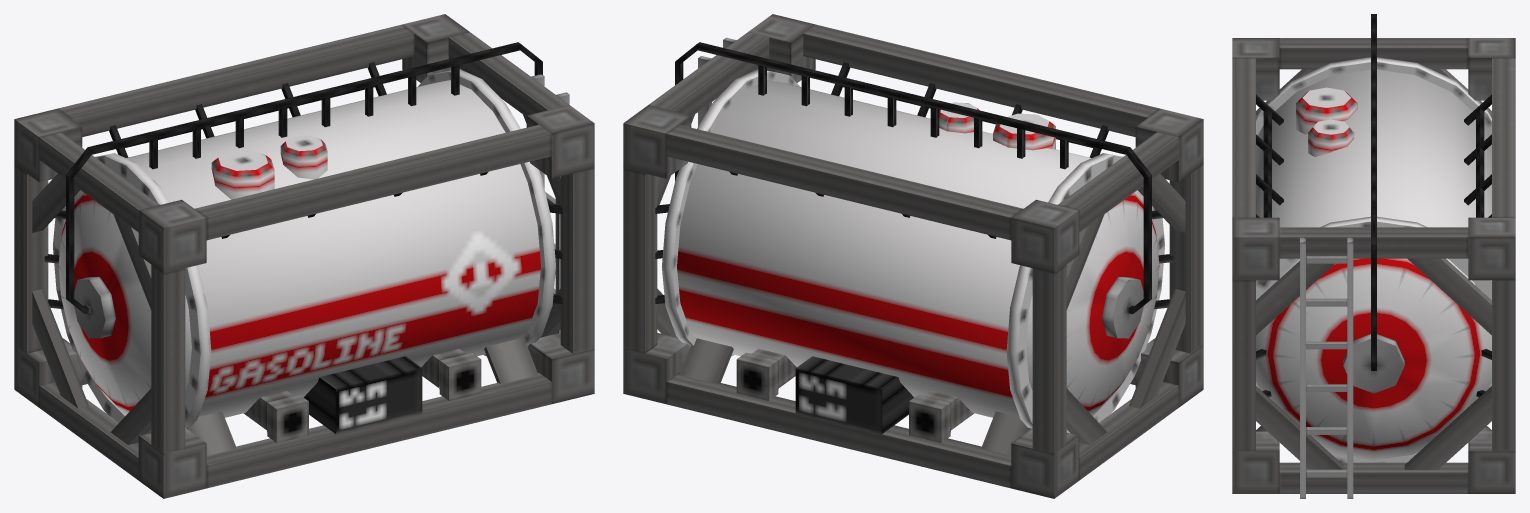
Rendered from machine_fluidtank_fluid_53.obj.
The picture shows the model from 3 angles, left to right: view 1: azimuth 30°, elevation 25°; view 2: azimuth 150°, elevation 25°; view 3: azimuth 270°, elevation 25°; orthographic projection. The views are drawn at different scales.
Visible parts, largest first — view 1: Frame, Tank; view 2: Frame, Tank; view 3: Frame, Tank.
Boxes of the visible parts, x1,y1,x2,y2 form: Frame: (14,14,594,498); Tank: (53,69,555,433); Frame: (623,14,1203,498); Tank: (662,69,1164,433); Frame: (1232,14,1515,498); Tank: (1256,57,1491,462).
Size of the model in its own units: 5.5 by 3.28 by 3.
